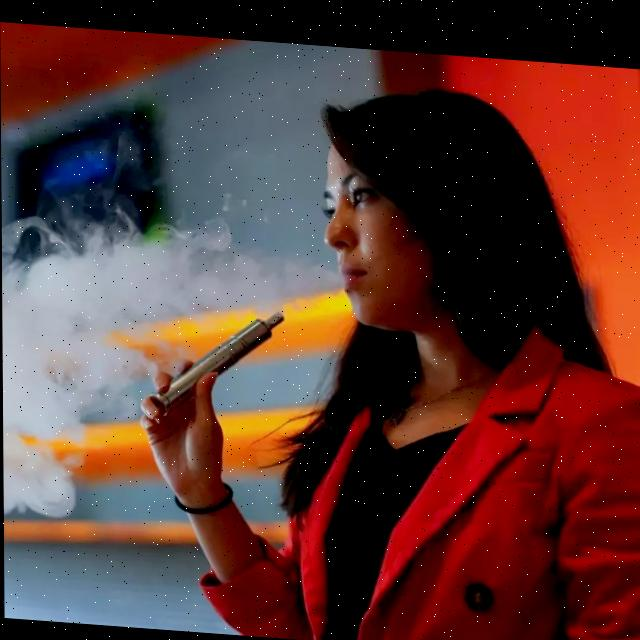vape: (148, 300, 284, 423)
